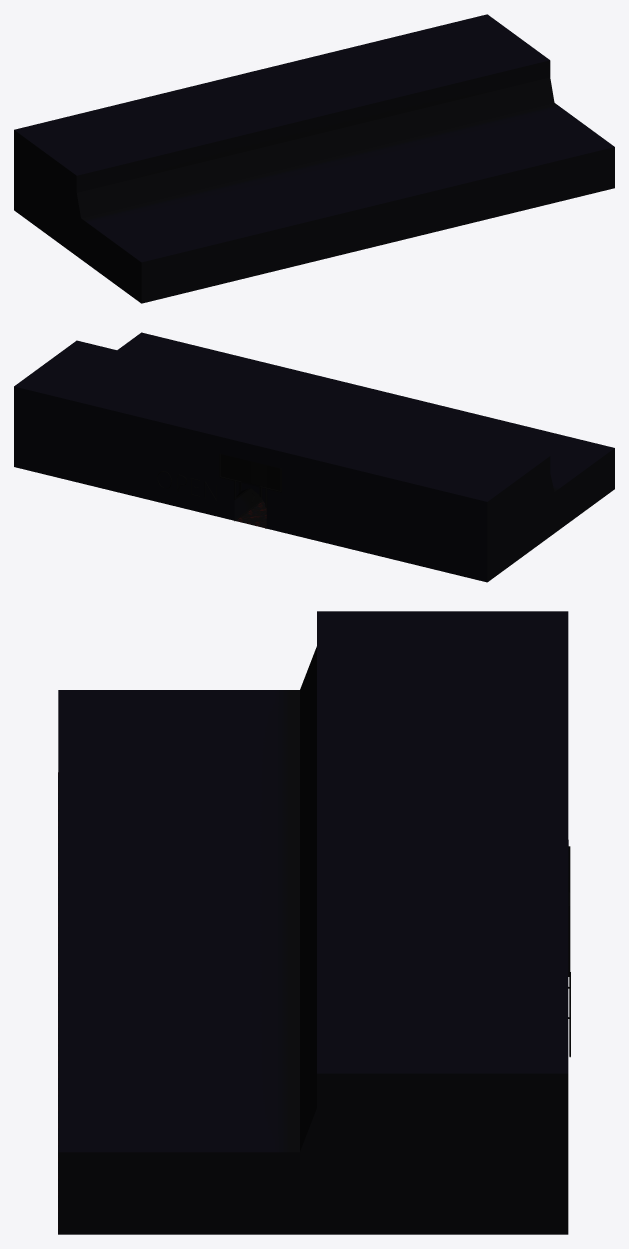
The model's file is Exterior.gltf.
The picture shows the model from 3 angles, top to bottom: view 1: azimuth 30°, elevation 25°; view 2: azimuth 150°, elevation 25°; view 3: azimuth 270°, elevation 25°; orthographic projection. The views are drawn at different scales.
Visible parts, largest first — view 1: BowlingRoomWalls.002; view 2: BowlingRoomWalls.002, BowlingRoomWalls.003, Cube.004; view 3: BowlingRoomWalls.002.
Boxes of the visible parts, bbox=[...] form: BowlingRoomWalls.002: bbox=[14, 14, 614, 303]; BowlingRoomWalls.002: bbox=[14, 332, 614, 582]; BowlingRoomWalls.003: bbox=[236, 501, 266, 528]; Cube.004: bbox=[219, 453, 281, 528]; BowlingRoomWalls.002: bbox=[58, 611, 568, 1234].
Size of the model in its own units: 55.06 by 8.95 by 25.83.
3 materials, 2 textured.
